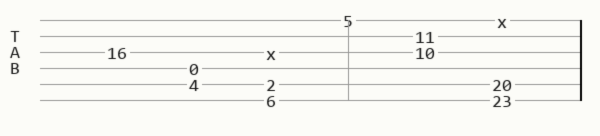0: (189, 61, 203, 76)
10: (415, 45, 439, 60)
11: (415, 29, 439, 44)
16: (107, 45, 131, 60)
2: (266, 77, 280, 92)
20: (492, 77, 516, 92)
23: (492, 93, 516, 108)
4: (189, 77, 203, 92)
5: (343, 13, 357, 28)
6: (266, 93, 280, 108)
x: (266, 46, 280, 59), (497, 14, 511, 27)
